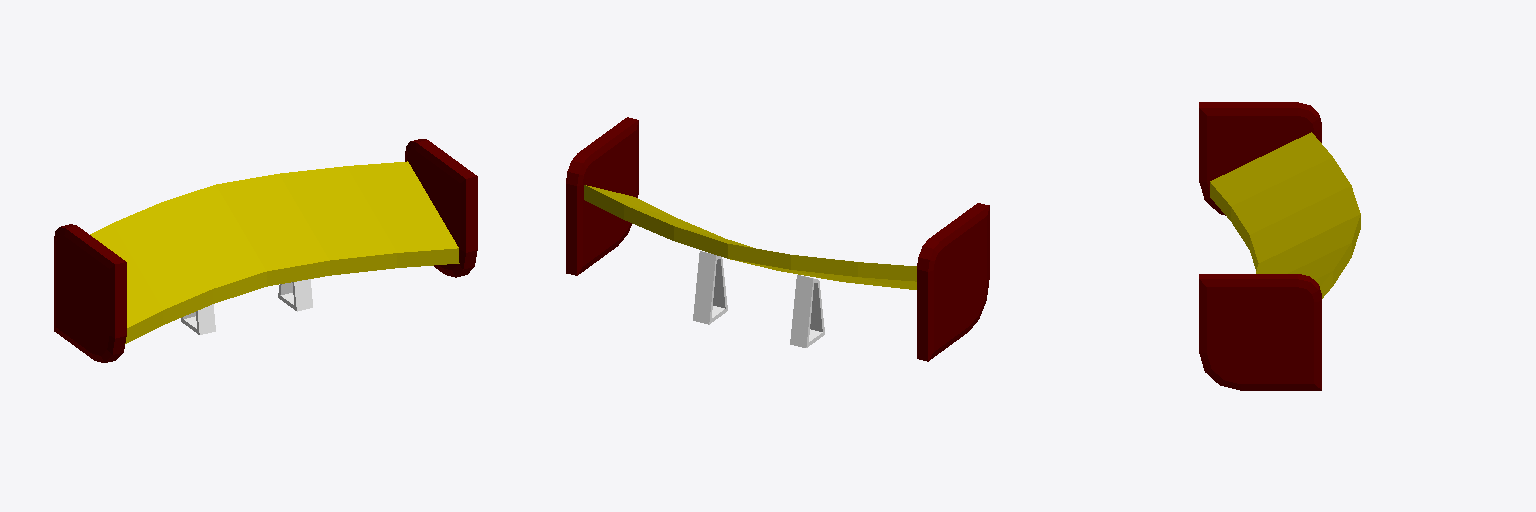
File: WingsKart5.obj
3 renders of one model, left to right at view 1: azimuth 30°, elevation 25°; view 2: azimuth 150°, elevation 25°; view 3: azimuth 270°, elevation 25°, orthographic.
Parts seen in each view (by area): view 1: WingsKart5_Cube.015; view 2: WingsKart5_Cube.015; view 3: WingsKart5_Cube.015.
Part boxes in pixels (bbox=[...]): WingsKart5_Cube.015: bbox=[54, 139, 477, 362]; WingsKart5_Cube.015: bbox=[566, 117, 989, 361]; WingsKart5_Cube.015: bbox=[1199, 102, 1360, 390].
Size of the model in its own units: 4.95 by 1.68 by 1.89.